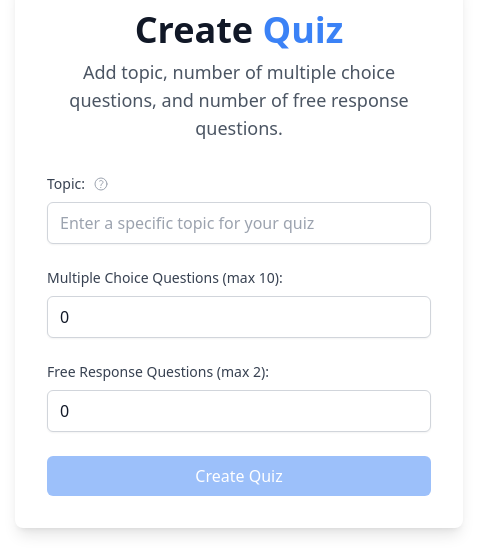
Create Quiz Page › enables submit button when form is valid
The width and height of the screenshot is (479, 554).
In the field labelled "Topic:": (239, 223) 47,202 -> 431,244, type "World War II"
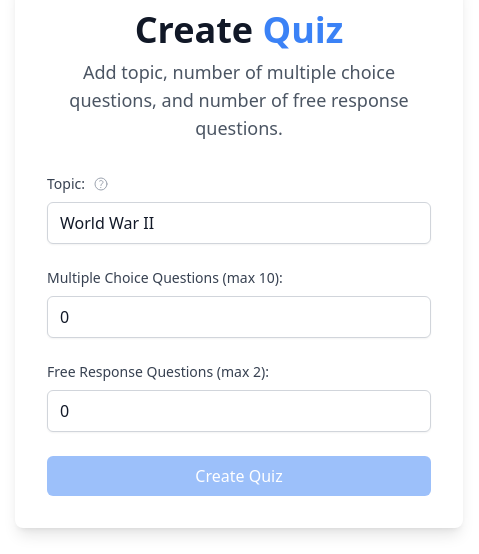
Replace the text in the number field labelled "Multiple Choice Questions (max 10):" with "5": (239, 317) 47,296 -> 431,338
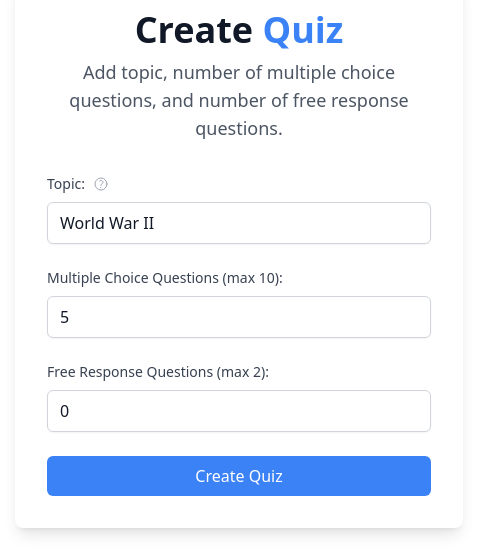
Check: the button "Create Quiz" is enabled, box 47,456 -> 431,496
